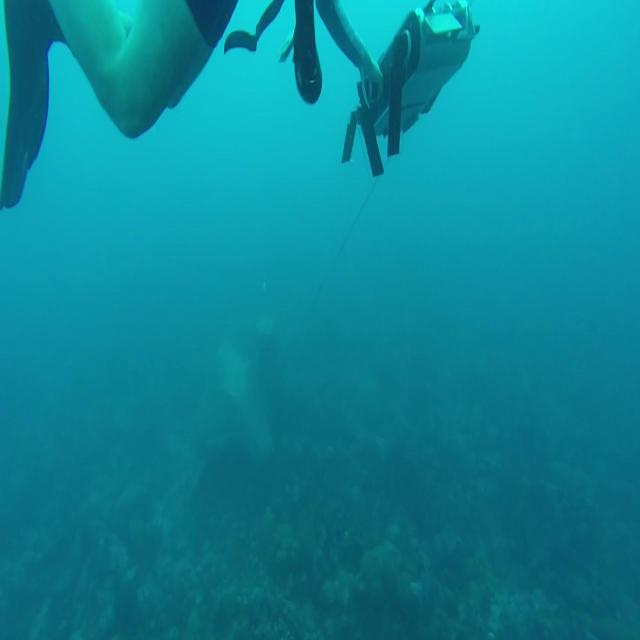human: (0, 0, 238, 210), (223, 0, 384, 108)
